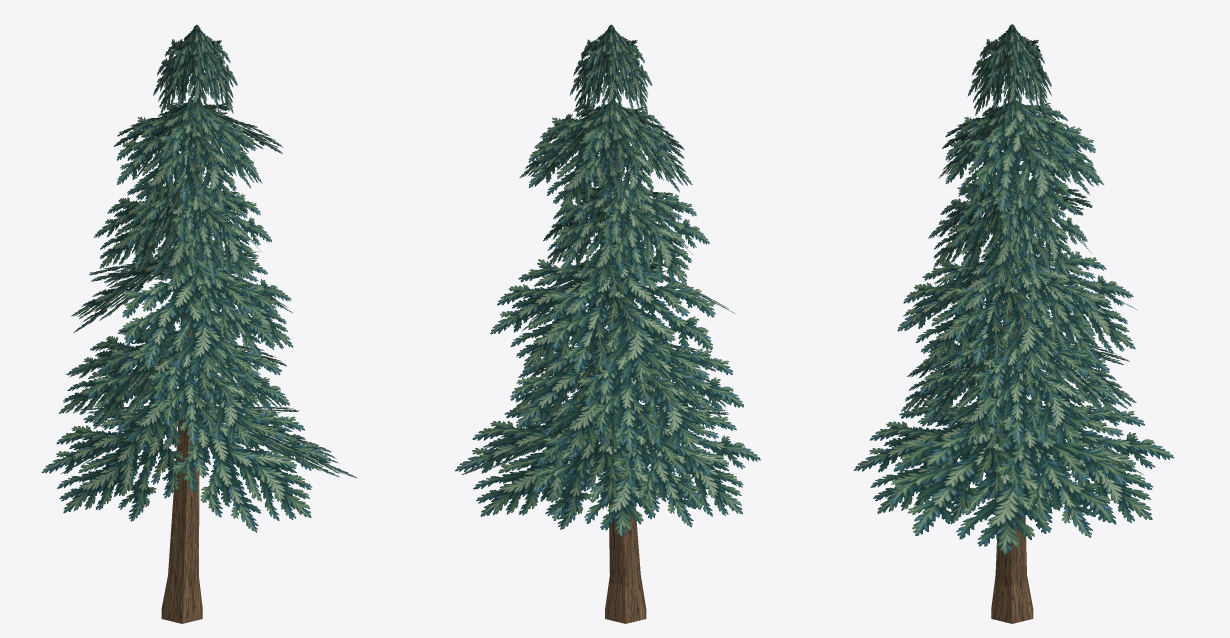
File: Abete_06_Salvia.obj
The picture shows the model from 3 angles, left to right: view 1: azimuth 30°, elevation 25°; view 2: azimuth 150°, elevation 25°; view 3: azimuth 270°, elevation 25°; orthographic projection.
Visible parts, largest first — view 1: Abete_06_Salvia; view 2: Abete_06_Salvia; view 3: Abete_06_Salvia.
Part boxes in pixels (box(x1,y1,x2,y2)): Abete_06_Salvia: box(41, 24, 356, 623); Abete_06_Salvia: box(455, 24, 760, 623); Abete_06_Salvia: box(853, 24, 1174, 623).
Size of the model in its own units: 3.56 by 6.8 by 4.05.
Materials: 2 (2 with a texture image).
